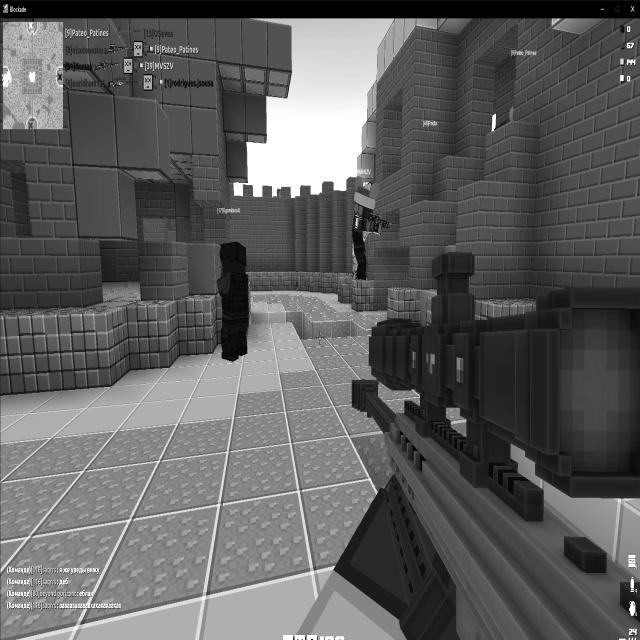Head: (352, 180, 377, 218), (220, 241, 246, 275), (508, 104, 515, 120)
Player: (215, 240, 250, 361), (350, 175, 390, 280)
